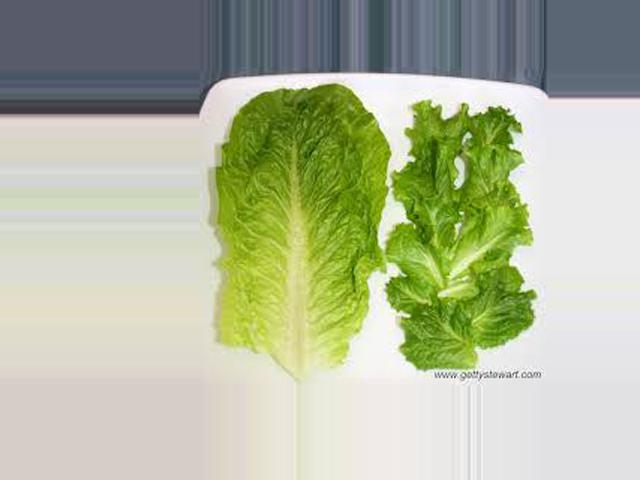lettuce: (391, 99, 550, 360)
